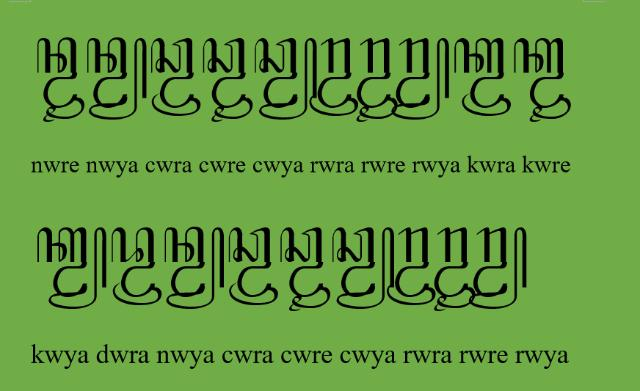cwr: (150, 38, 202, 117), (228, 226, 278, 306)
cwre: (202, 38, 254, 124), (279, 227, 331, 313)
cwy: (332, 226, 396, 310), (256, 37, 318, 121)
dwr: (110, 226, 162, 306)
kwr: (453, 37, 511, 117)
kwre: (514, 38, 572, 122)
kwy: (37, 227, 107, 309)
nwre: (37, 37, 85, 123)
nwy: (86, 37, 148, 121), (164, 226, 226, 310)
rwr: (386, 226, 436, 306), (310, 38, 358, 116)
rwre: (357, 37, 398, 123), (434, 226, 474, 312)
rwy: (468, 226, 528, 310), (392, 38, 450, 120)
